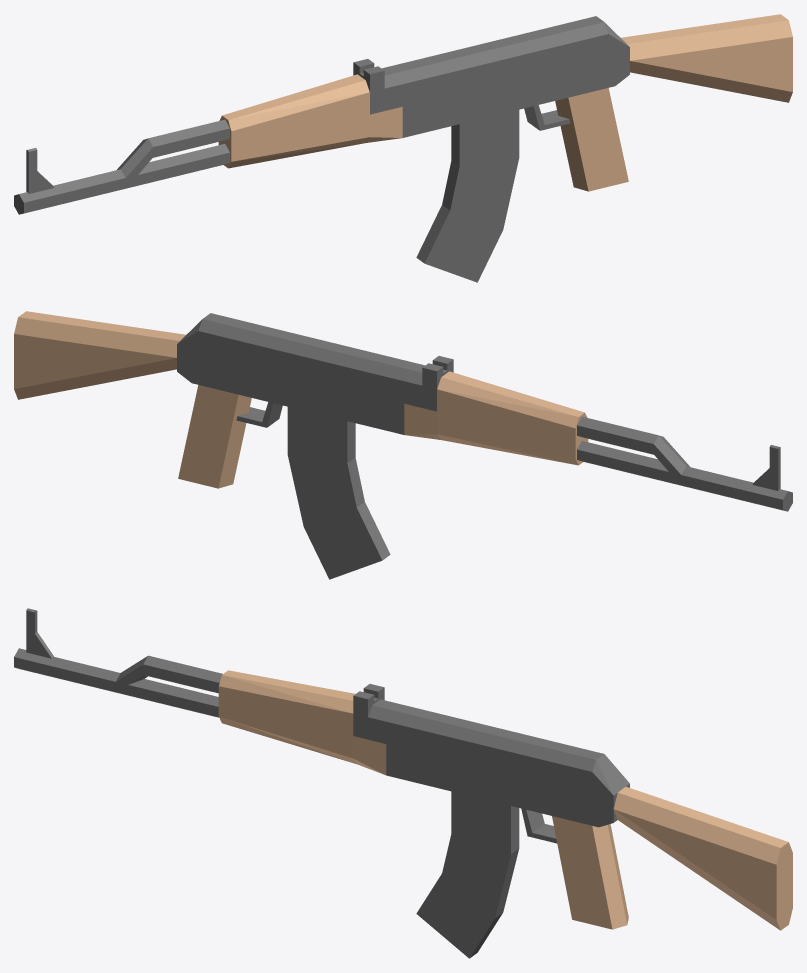
The picture shows the model from 3 angles, top to bottom: view 1: azimuth 30°, elevation 25°; view 2: azimuth 150°, elevation 25°; view 3: azimuth 330°, elevation 25°; orthographic projection.
Parts seen in each view (by area): view 1: Gun, Mag; view 2: Gun, Mag; view 3: Gun, Mag.
Boxes of the visible parts, <box> form: Gun: <box>14,14,792,214</box>; Mag: <box>416,110,519,282</box>; Gun: <box>14,311,792,511</box>; Mag: <box>287,407,390,579</box>; Gun: <box>14,608,792,930</box>; Mag: <box>416,791,519,958</box>.
Size of the model in its own units: 0.893 by 0.266 by 0.0331.
